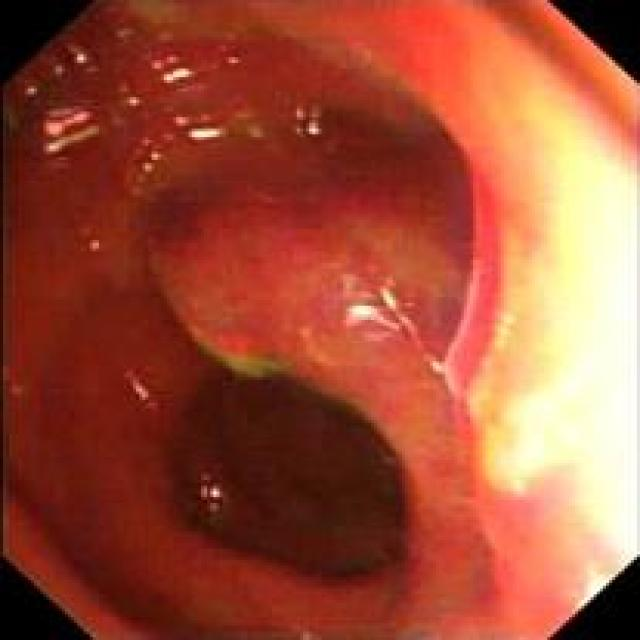color misalignment: (454, 407, 618, 633), (442, 162, 506, 397), (323, 262, 435, 355), (39, 109, 103, 157)
saturation: (485, 124, 638, 616)
specularity: (340, 302, 398, 335), (149, 48, 196, 86), (196, 467, 228, 518), (291, 100, 325, 136), (123, 369, 153, 405), (185, 126, 230, 143), (379, 281, 399, 316), (69, 47, 95, 72), (84, 235, 108, 257), (426, 352, 446, 378), (123, 88, 142, 110), (138, 157, 159, 174), (146, 143, 161, 166), (218, 50, 239, 66), (22, 83, 35, 95)
